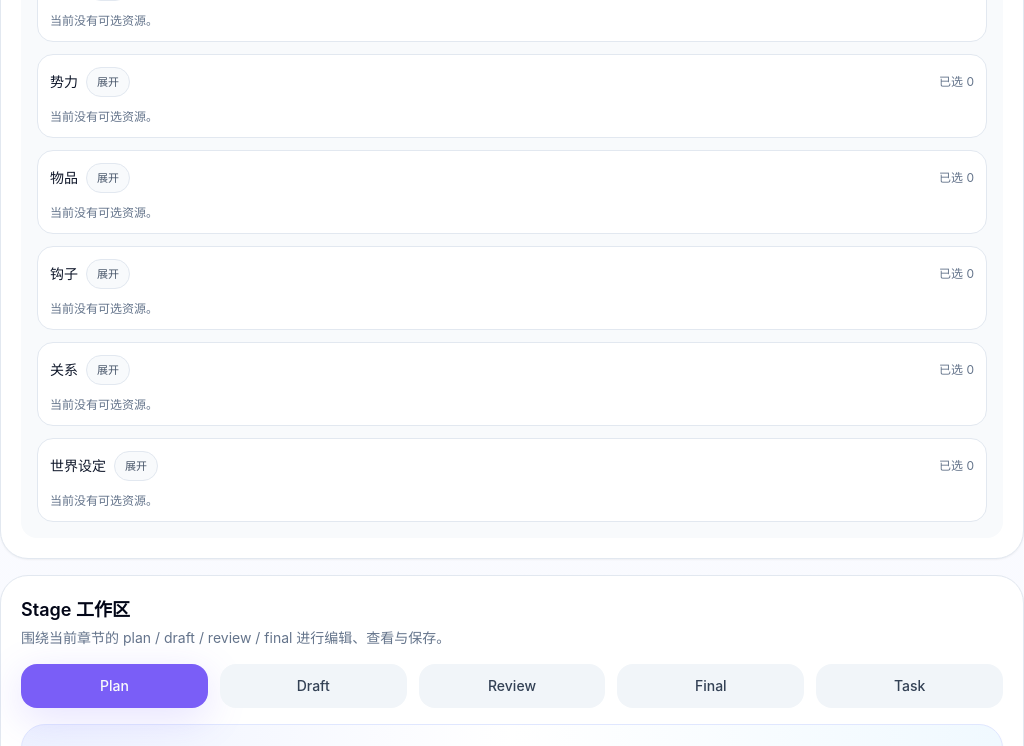
ChapterWorkbenchPage › uses enum select for relation type in chapter resource editor
The image size is (1024, 746).
(page scrolled)
What coordinates should you click on to do the following:
click the button "展开" next to "关系"
I would click on:
 (108, 370)
Its box is [86,355,130,385].
(page scrolled)
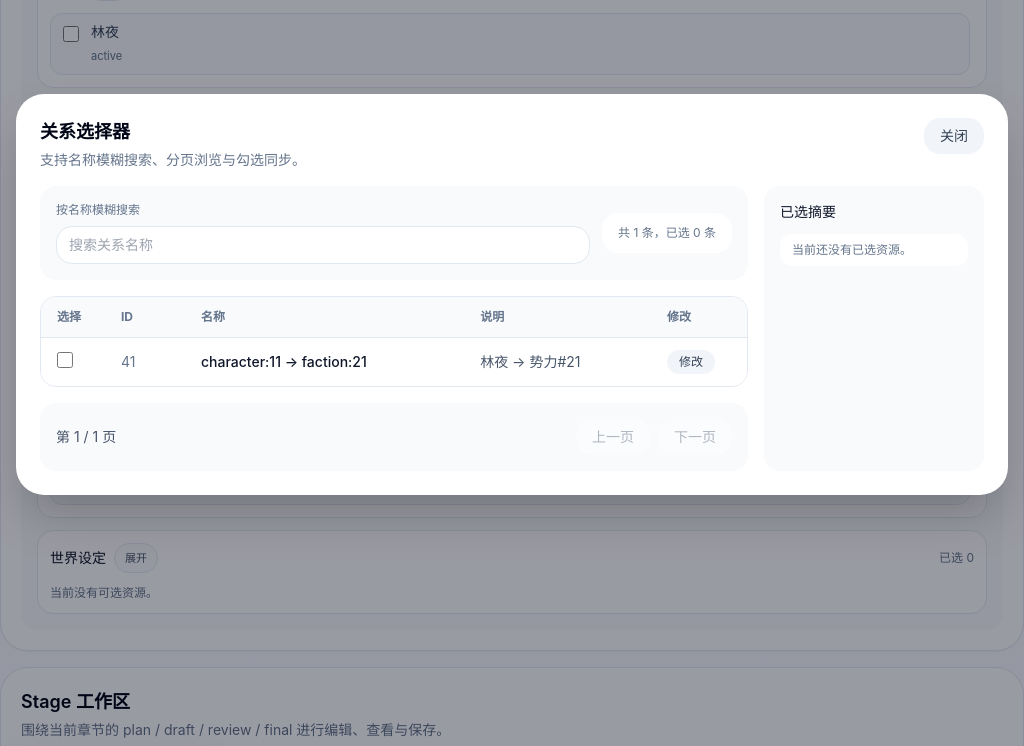
What coordinates should you click on to do the following:
click the button with aria-label "修改character:11"
I would click on:
 (691, 362)
Its box is [667,350,715,374].
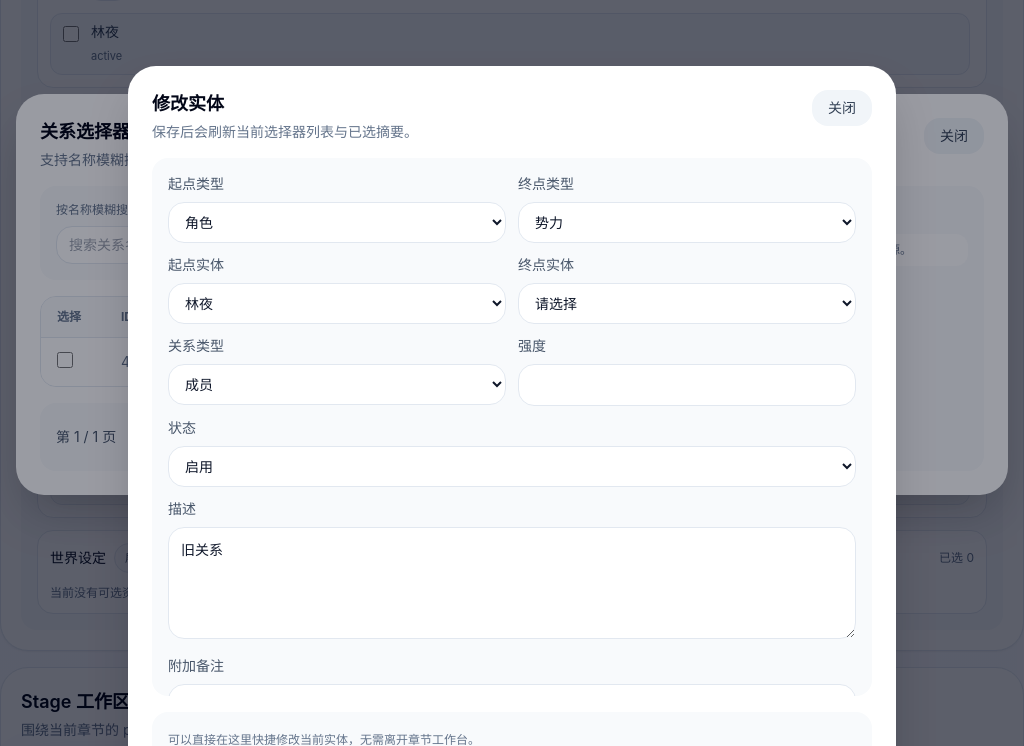
Expected: the dropdown labelled "关系类型" shows "成员", [168,364,506,405]
Expected: the dropdown labelled "状态" shows "启用", [168,446,856,487]
